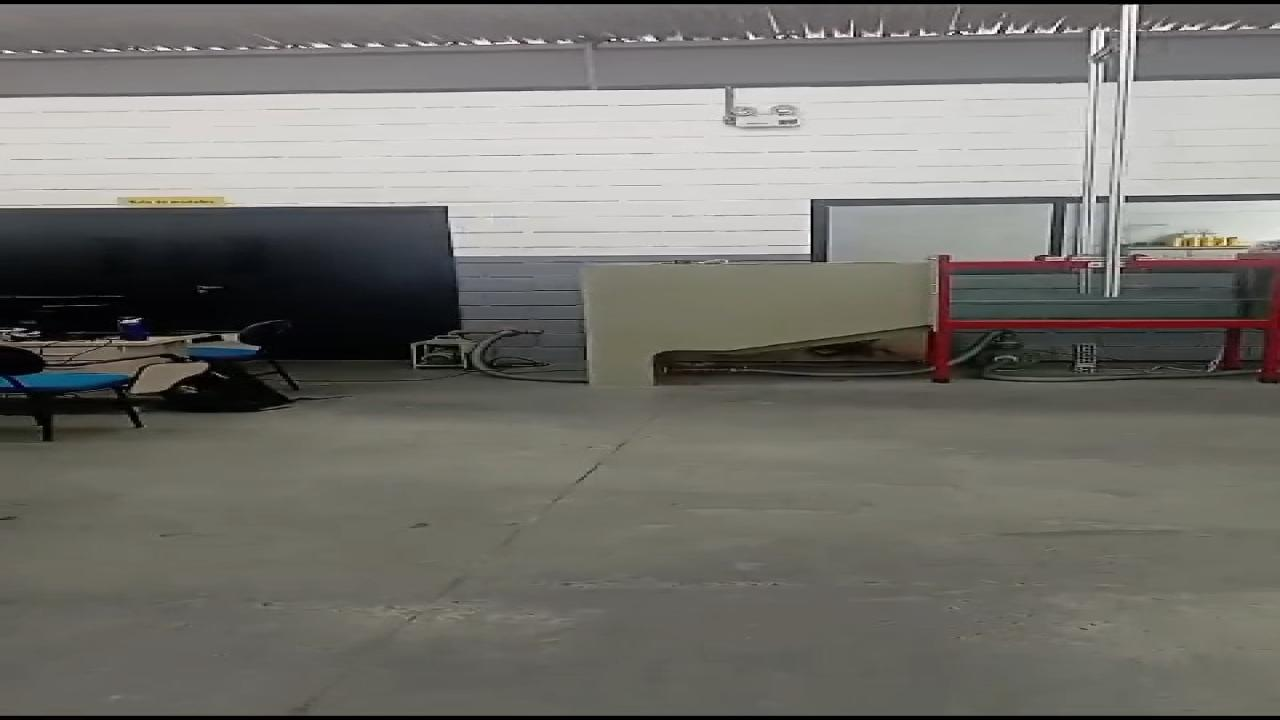Cube: (674, 260, 693, 264)
